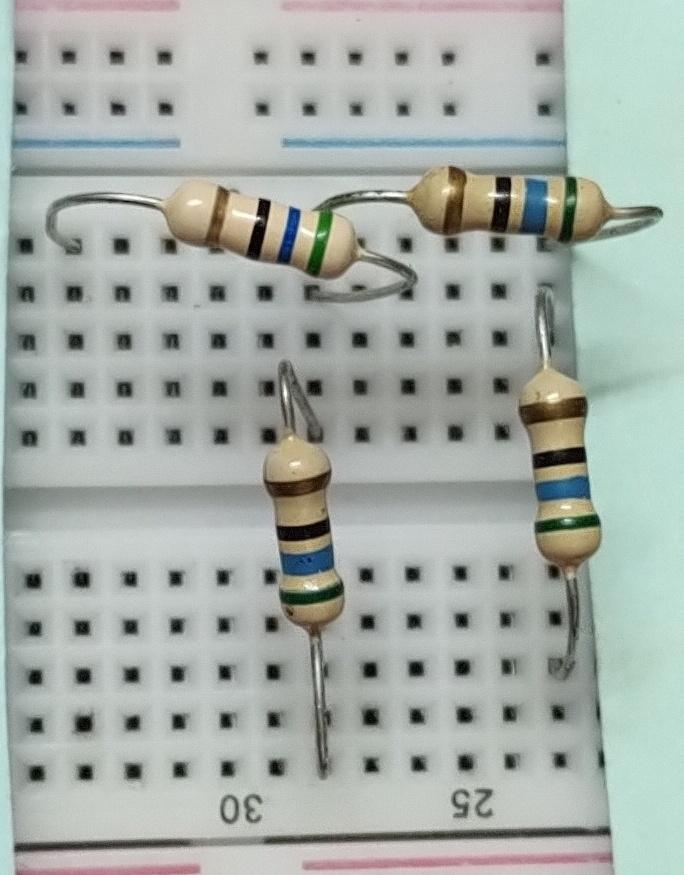resistor: (240, 422, 378, 632), (160, 166, 364, 290), (506, 354, 604, 572), (392, 158, 618, 242)
